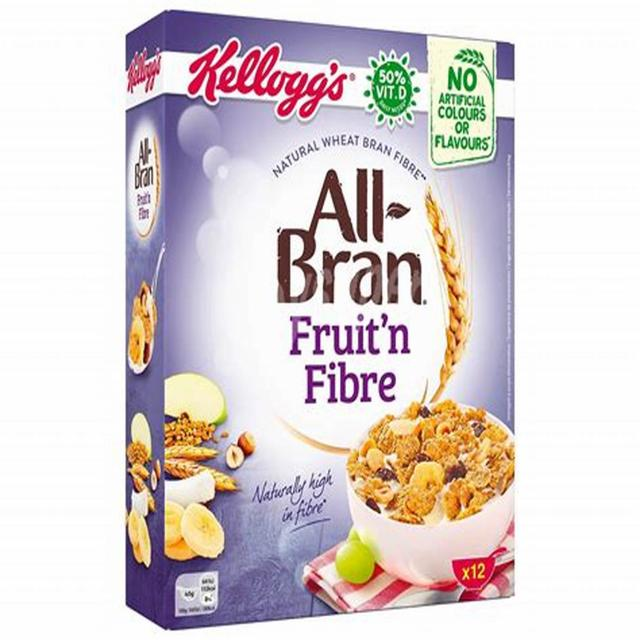Caja: (113, 16, 521, 624)
